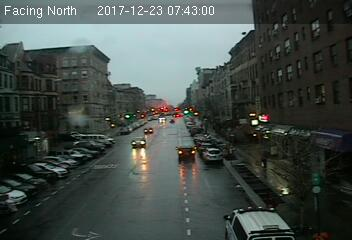car: (176, 145, 198, 161), (203, 147, 223, 161), (129, 136, 147, 148), (142, 126, 154, 134)
police: (220, 205, 296, 240)
